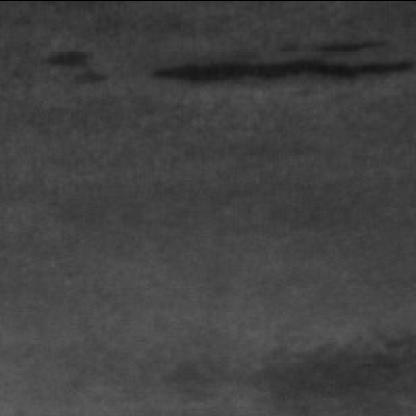inclusion: (148, 36, 416, 96), (43, 50, 121, 96)
